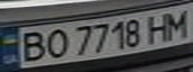1: (109, 18, 130, 51)
7: (69, 22, 93, 56), (90, 20, 112, 54)
8: (124, 16, 148, 47)
B: (15, 29, 48, 63)
H: (142, 11, 175, 43)
M: (160, 7, 193, 39)
O: (39, 27, 69, 60)
